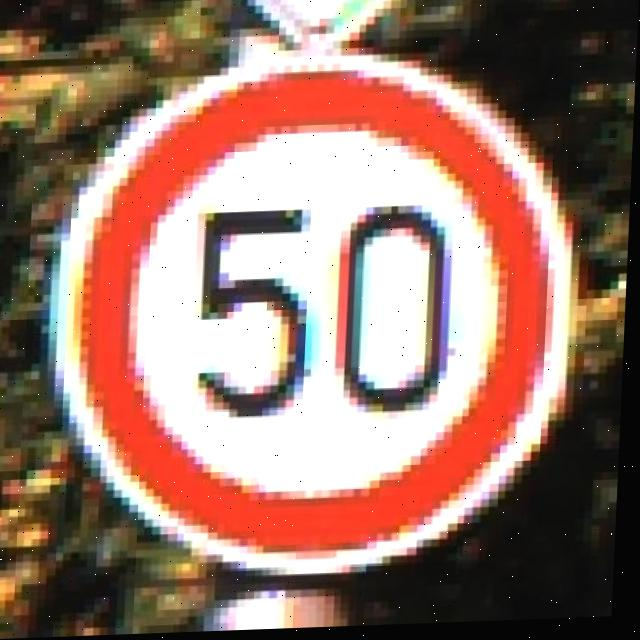Speed limit 50: (53, 52, 591, 585)
